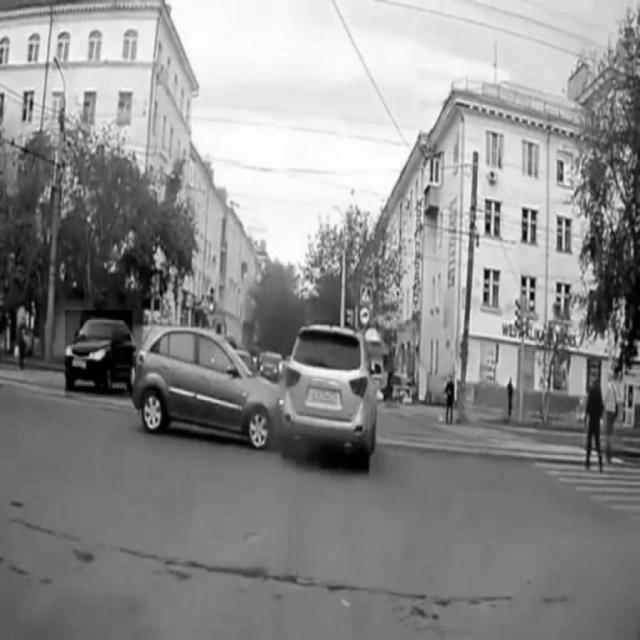accident: (125, 318, 377, 470)
person: (584, 369, 609, 477), (443, 373, 460, 424)
vehicle: (65, 310, 133, 398)
